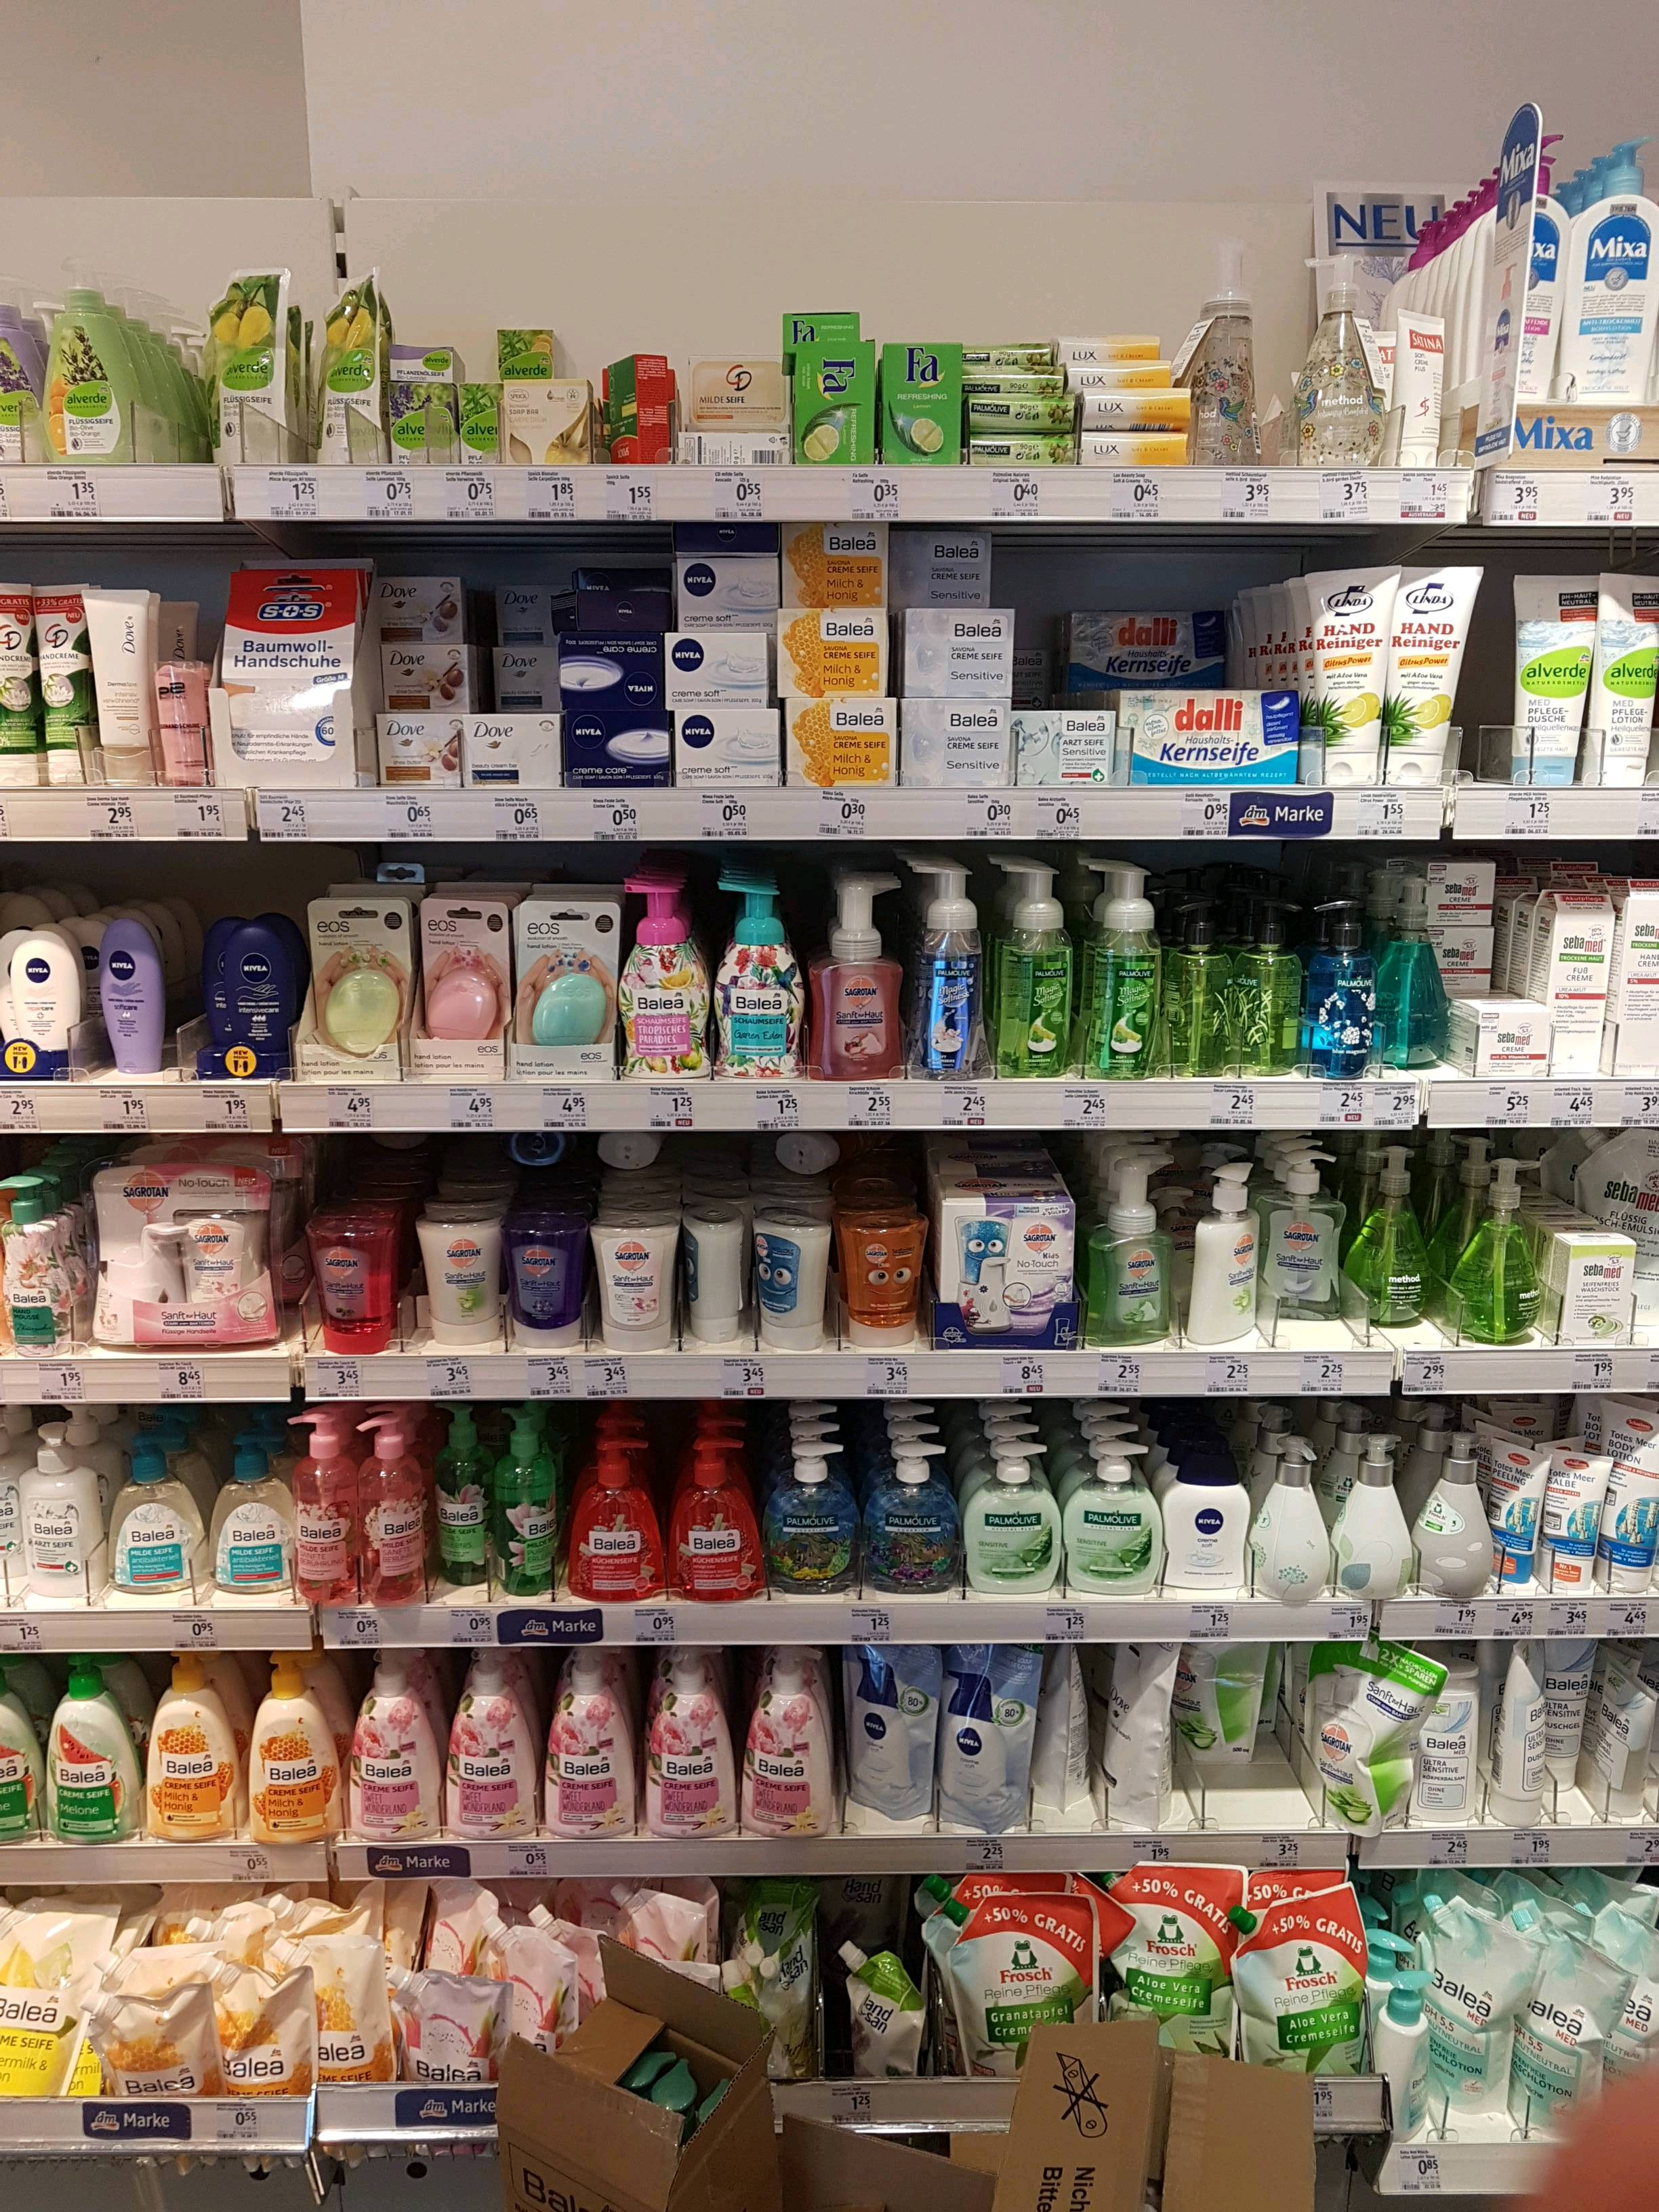Misplacement: (375, 571, 561, 786)
